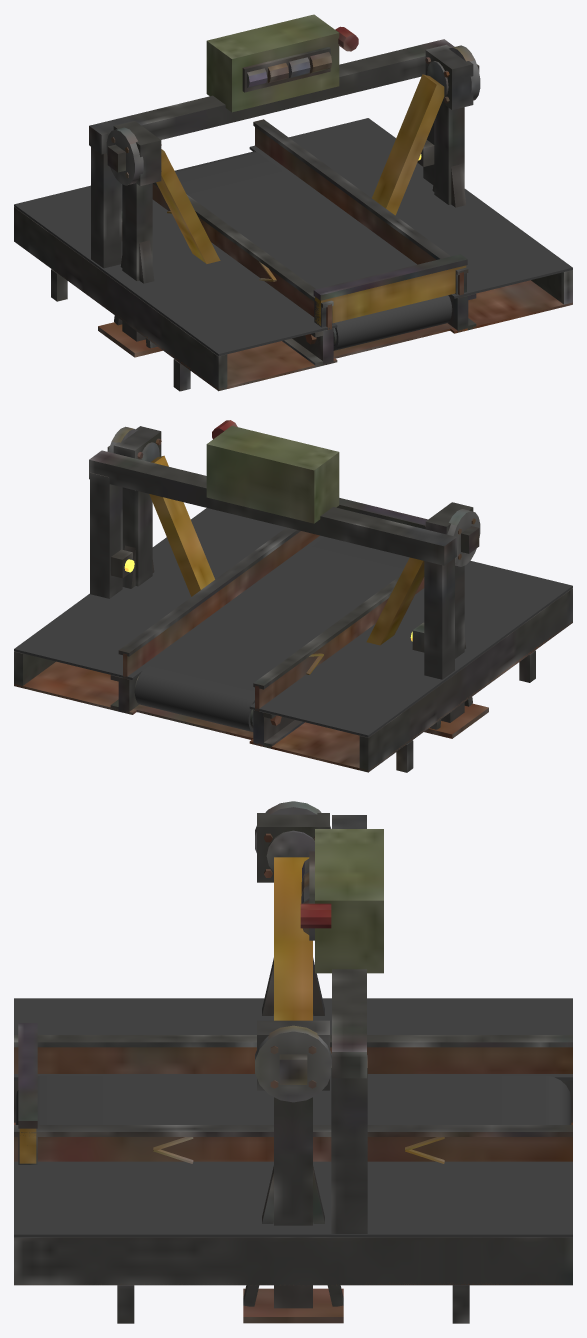
File: feBeltCounter.glb
3 views of the same model, one above another, from view 1: azimuth 30°, elevation 25°; view 2: azimuth 150°, elevation 25°; view 3: azimuth 270°, elevation 25° (orthographic). The views are drawn at different scales.
Parts seen in each view (by area): view 1: FeBeltFill_R, FeBeltExtra_Counter, FeBeltBed, FeBeltFill_L, FeBeltDrive_L, FeBeltDrive_R, FeRail_L, FeBeltEnd, FeRail_R, FeSpin_BeltDrive_R, FeSpin_BeltDrive_L; view 2: FeBeltFill_R, FeBeltExtra_Counter, FeBeltBed, FeBeltFill_L, FeBeltDrive_L, FeRail_L, FeBeltDrive_R, FeRail_R, FeSpin_BeltDrive_R, FeBeltEnd; view 3: FeBeltFill_L, FeBeltBed, FeBeltExtra_Counter, FeBeltFill_R, FeRail_L, FeRail_R, FeBeltDrive_L, FeBeltDrive_R, FeSpin_BeltDrive_L, FeBeltEnd.
Boxes of the visible parts, x1,y1,x2,y2 form: FeBeltFill_R: [14, 184, 337, 391]; FeBeltExtra_Counter: [89, 14, 454, 268]; FeBeltBed: [175, 151, 476, 367]; FeBeltFill_L: [249, 118, 572, 333]; FeBeltDrive_L: [372, 44, 473, 215]; FeBeltDrive_R: [98, 121, 220, 357]; FeRail_L: [253, 119, 468, 297]; FeBeltEnd: [313, 254, 467, 346]; FeRail_R: [152, 182, 333, 329]; FeSpin_BeltDrive_R: [106, 127, 143, 185]; FeSpin_BeltDrive_L: [449, 45, 480, 100]; FeBeltFill_R: [249, 560, 572, 772]; FeBeltExtra_Counter: [89, 420, 456, 679]; FeBeltBed: [110, 537, 409, 748]; FeBeltFill_L: [14, 508, 324, 714]; FeBeltDrive_L: [113, 426, 214, 596]; FeRail_L: [118, 527, 319, 679]; FeBeltDrive_R: [366, 502, 488, 738]; FeRail_R: [253, 575, 424, 711]; FeSpin_BeltDrive_R: [447, 509, 480, 566]; FeBeltEnd: [336, 498, 427, 529]; FeBeltFill_L: [14, 1161, 572, 1323]; FeBeltBed: [14, 1075, 572, 1124]; FeBeltExtra_Counter: [300, 815, 383, 1233]; FeBeltFill_R: [14, 998, 572, 1124]; FeRail_L: [14, 1125, 572, 1163]; FeRail_R: [14, 1035, 572, 1073]; FeBeltDrive_L: [243, 1020, 343, 1323]; FeBeltDrive_R: [257, 813, 329, 1020]; FeSpin_BeltDrive_L: [255, 1025, 331, 1102]; FeBeltEnd: [18, 1023, 37, 1164].
Size of the model in its own units: 1.02 by 0.6724 by 1.
Materials: 3 (1 with a texture image).
